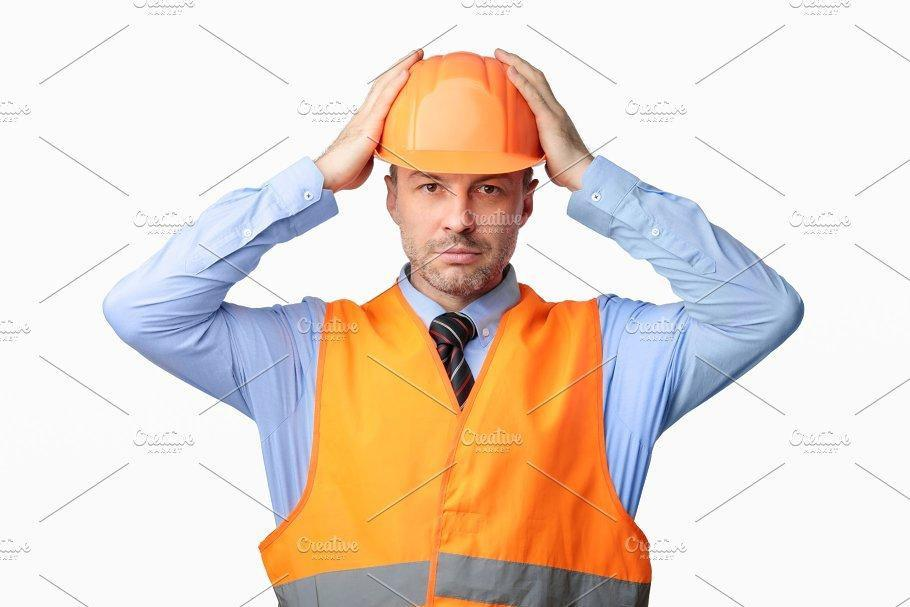hardhat: (376, 53, 545, 175)
worker: (105, 48, 807, 607)
